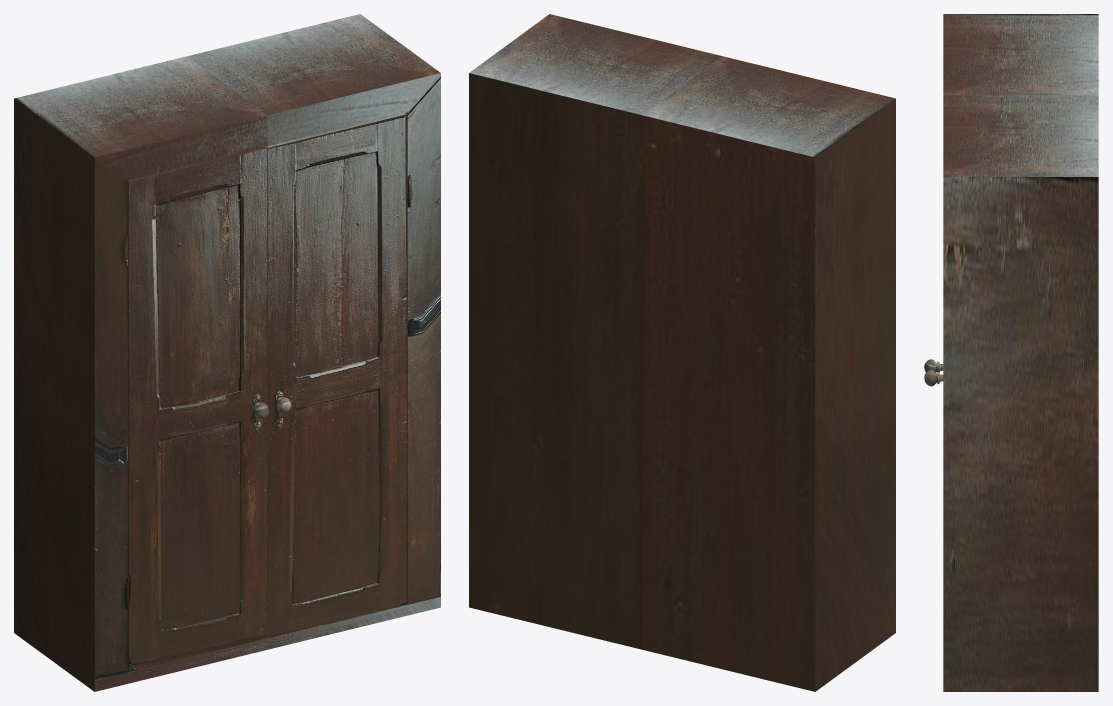
File: Closet.glb
3 renders of one model, left to right at view 1: azimuth 30°, elevation 25°; view 2: azimuth 150°, elevation 25°; view 3: azimuth 270°, elevation 25°, orthographic. The views are drawn at different scales.
Parts seen in each view (by area): view 1: Closet, Closet Door left, Closet Door right; view 2: Closet; view 3: Closet.
Part boxes in pixels (<box>): Closet: <box>14,14,440,691</box>; Closet Door left: <box>127,147,267,671</box>; Closet Door right: <box>266,113,406,637</box>; Closet: <box>469,14,895,691</box>; Closet: <box>943,14,1098,691</box>.
Bounding box in the file's own units: 1.36 × 2 × 0.614.
2 materials, 2 textured.
